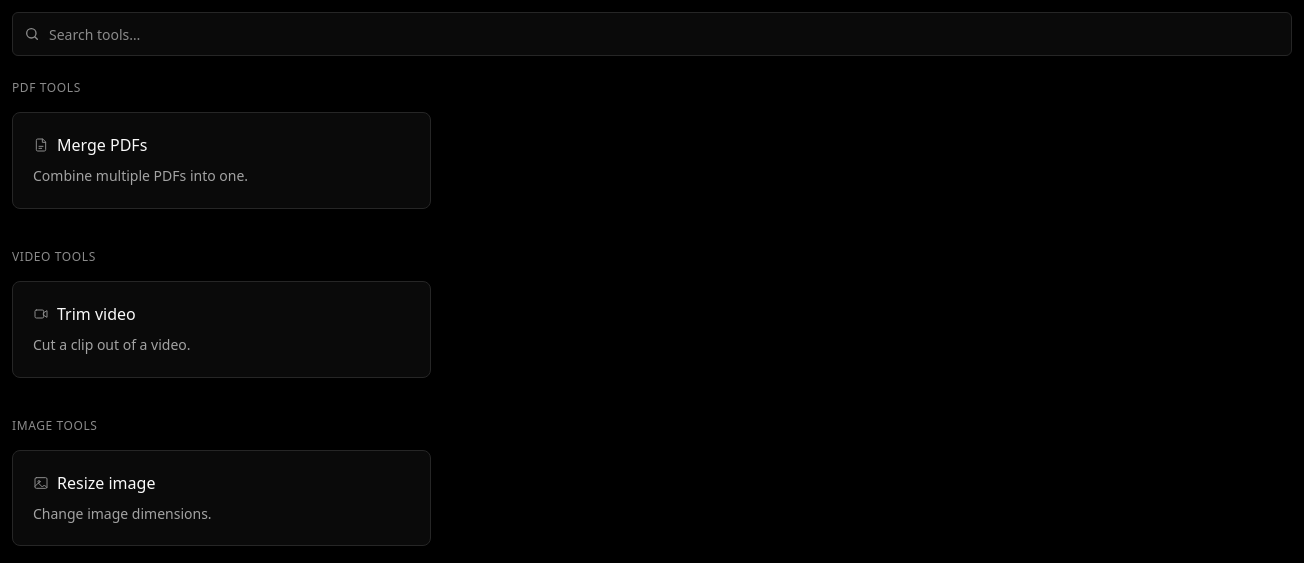
Test: HubToolFinder › shows the empty label when no tool matches
The width and height of the screenshot is (1304, 563).
Type "totallyabsentterm" into the search field with placeholder "Search tools…".
click(652, 34); type("totallyabsentterm")  # box x1=12 y1=12 x2=1292 y2=56
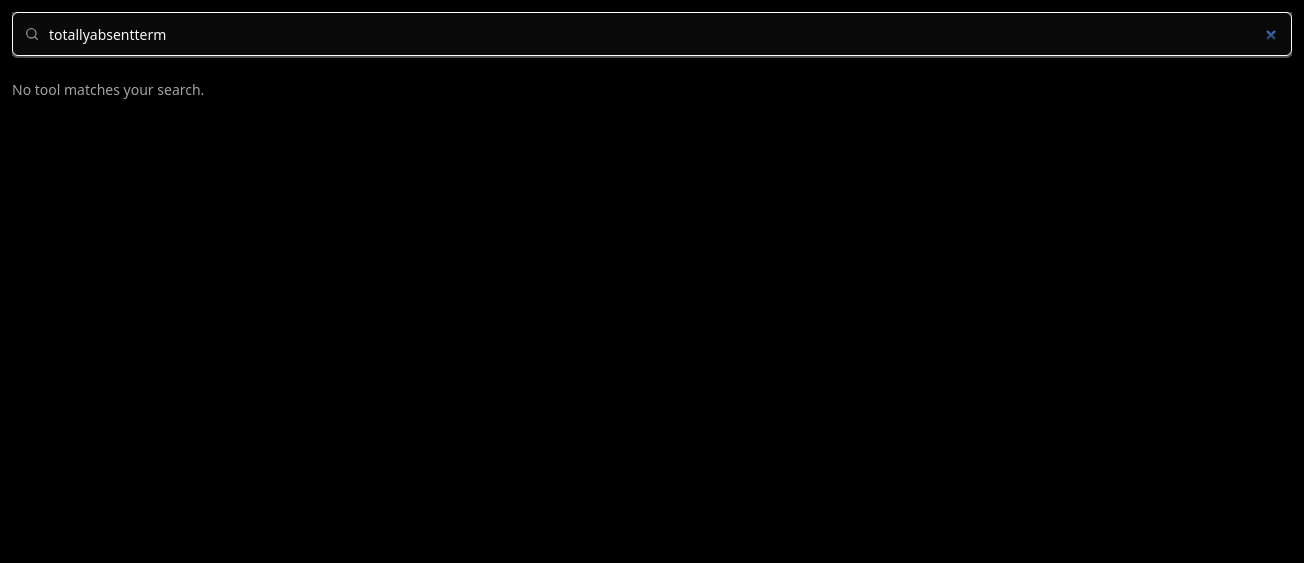
Now the text "No tool matches your search." is shown, box x1=12 y1=80 x2=204 y2=99
Now the link "Merge PDFs" is gone
